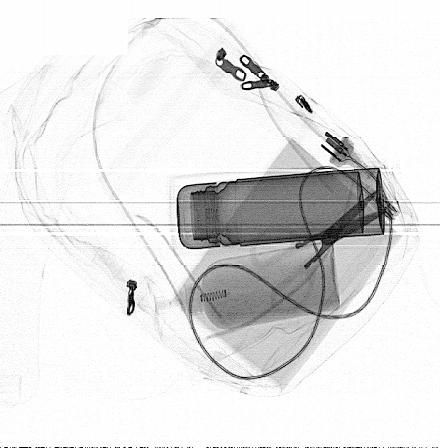Scissors: (249, 188, 389, 313)
